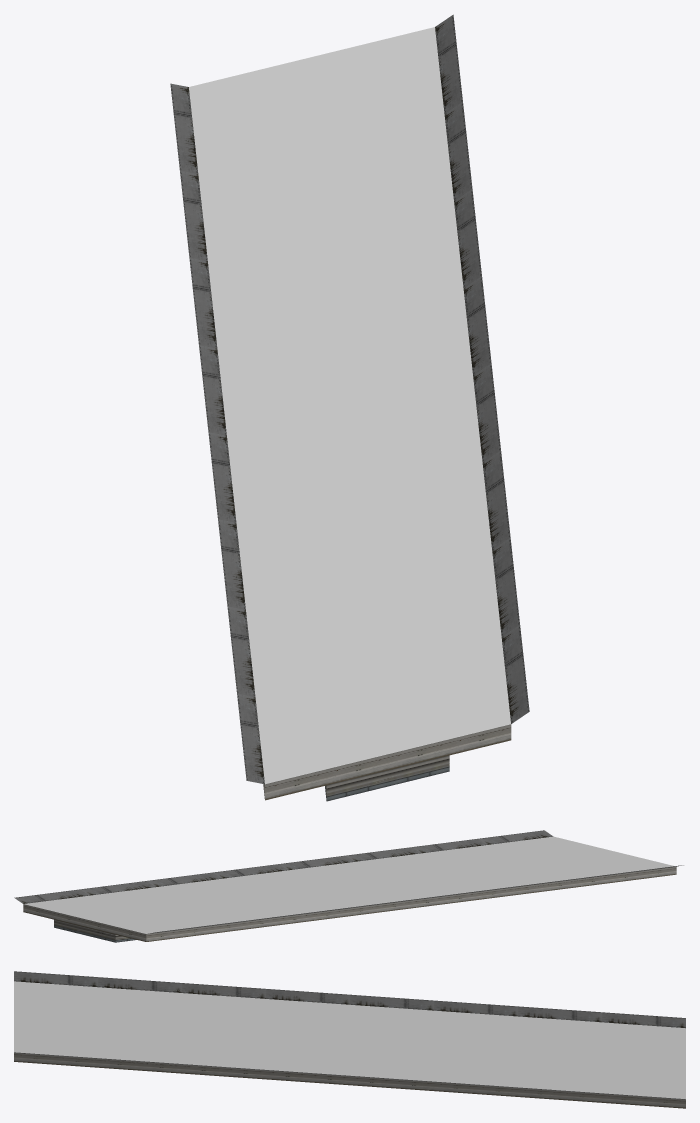
File: ShearSlopeB_R.fbx
3 renders of one model, top to bottom at view 1: azimuth 30°, elevation 25°; view 2: azimuth 150°, elevation 25°; view 3: azimuth 270°, elevation 25°, orthographic. The views are drawn at different scales.
Parts seen in each view (by area): view 1: Empty_Mesh; view 2: Empty_Mesh; view 3: Empty_Mesh.
Boxes of the visible parts, x1=… form: Empty_Mesh: x1=170, y1=14, x2=529, y2=801; Empty_Mesh: x1=14, y1=830, x2=683, y2=942; Empty_Mesh: x1=14, y1=971, x2=685, y2=1108.
Bounding box in the file's own units: 50.4 × 12.5 × 64.
